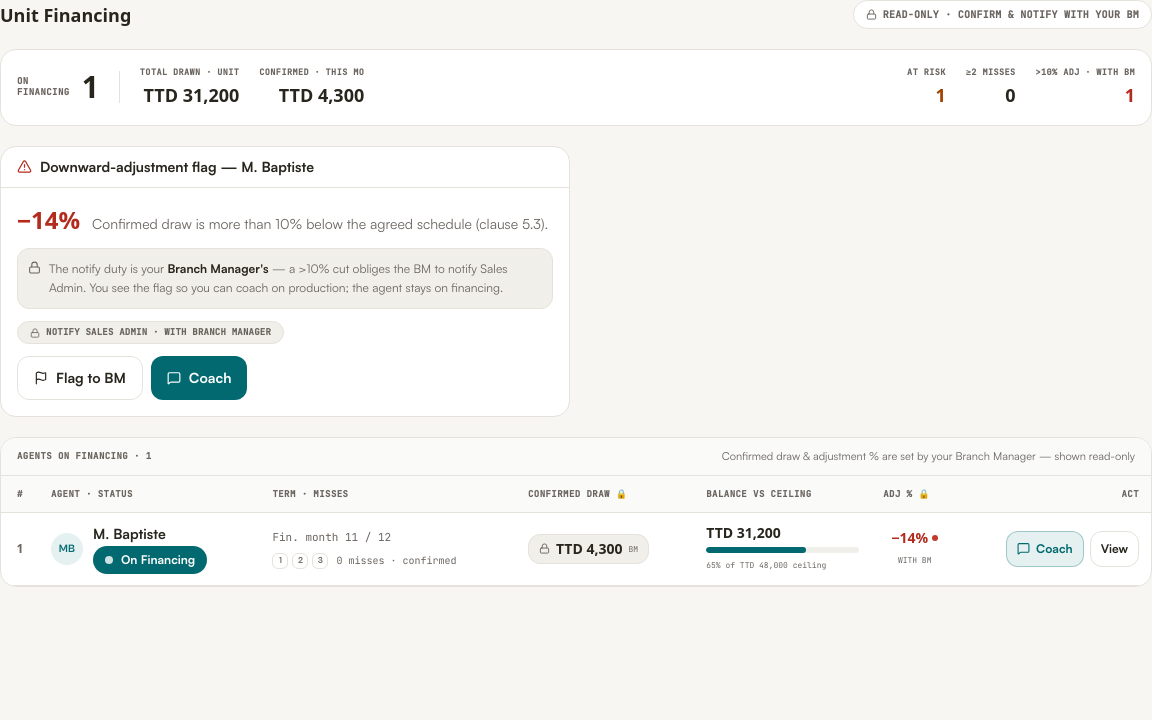
UnitFinancingRoster › renders a basisSource badge for confirmed figures
This screenshot has width=1152, height=720.
Expected: the row with test id "unit-financing-row-a2" is shown, [1,513,1151,586]
Click the button with test id "unit-financing-view-a2" at point(1114, 549), box [1090,531,1139,567]
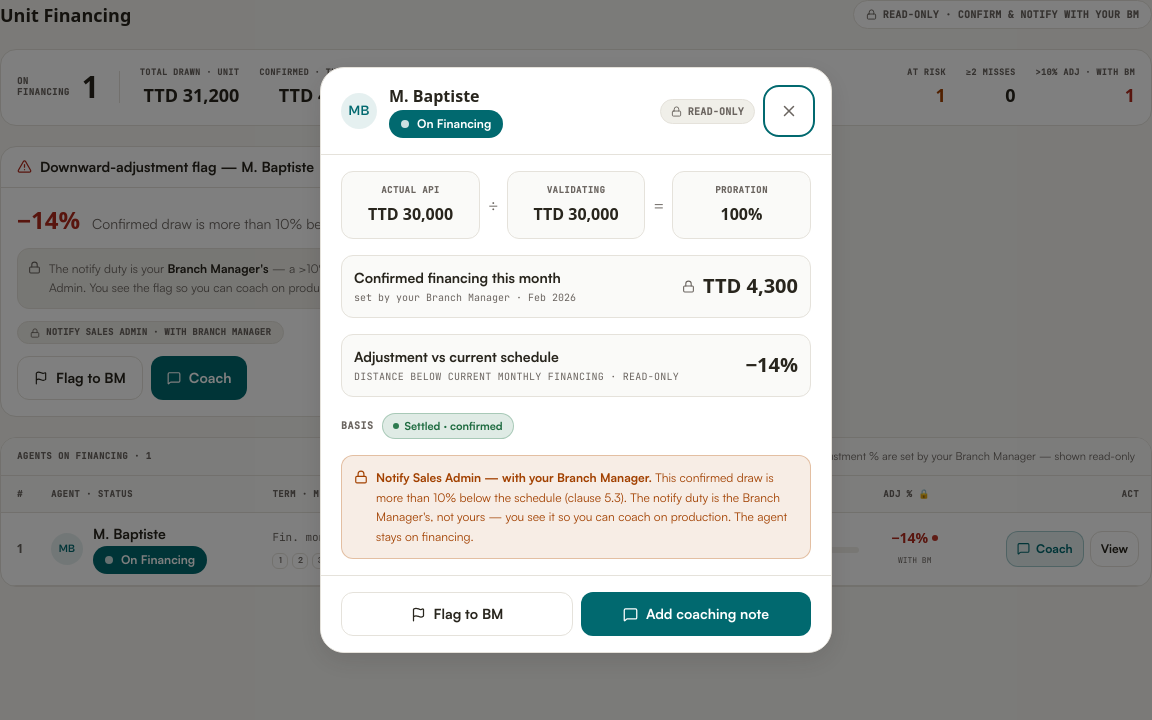
Result: the element with test id "unit-financing-drawer" is shown at [320,67,832,653]
